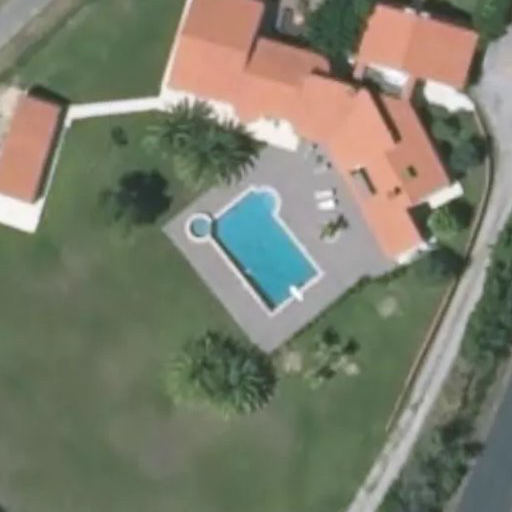pool: (200, 226, 325, 255)
